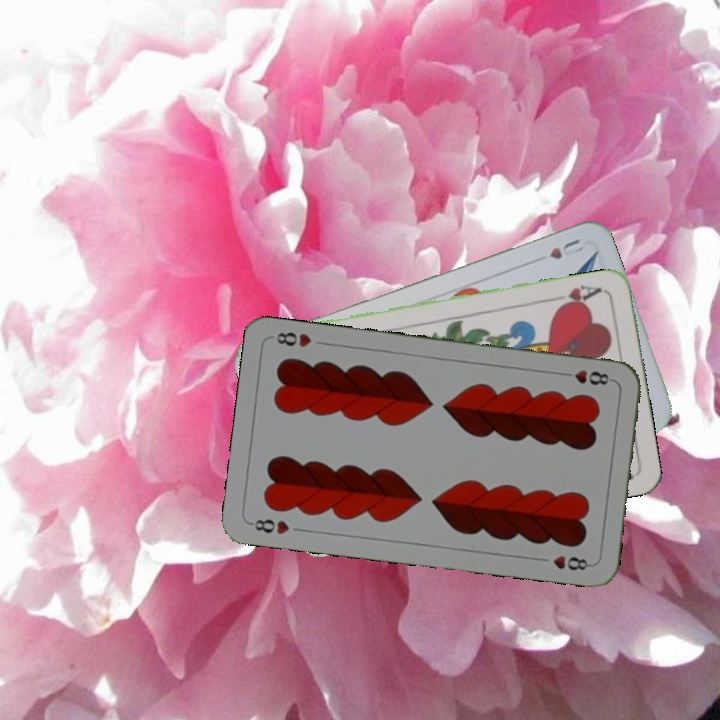H8: (557, 366, 616, 388), (246, 515, 292, 537)
HA: (548, 281, 604, 312)
HU: (545, 235, 587, 262)
